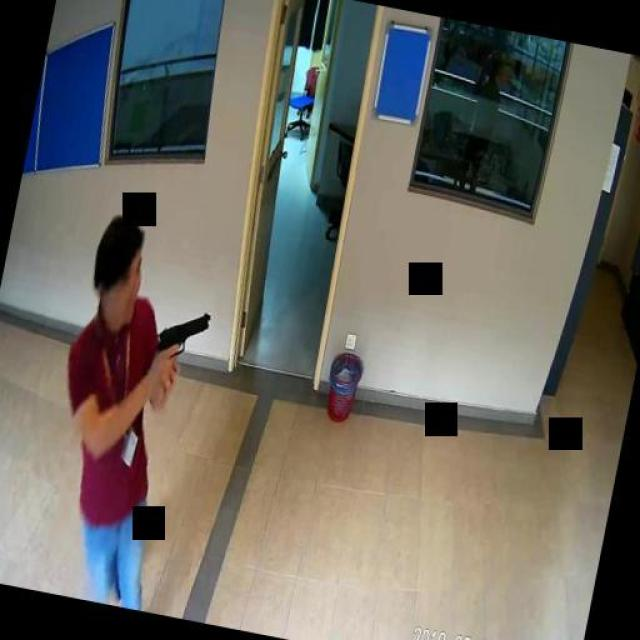gun: (149, 302, 210, 390)
